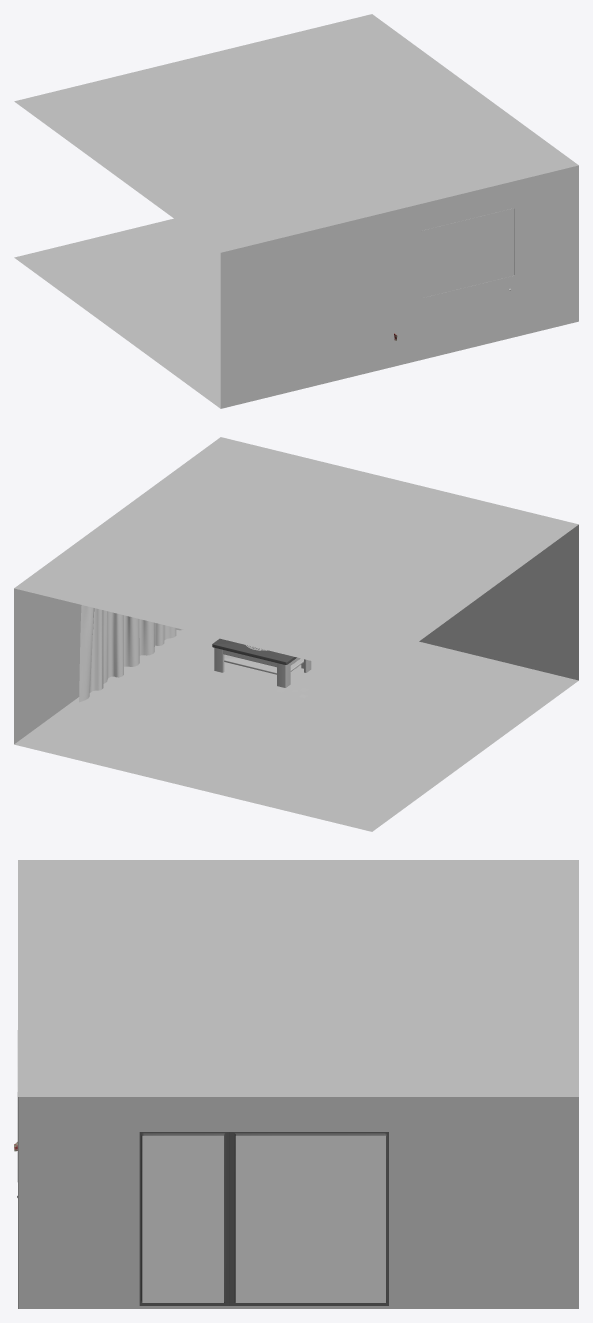
Rendered from charles lechair.fbx.
3 renders of one model, top to bottom at view 1: azimuth 30°, elevation 25°; view 2: azimuth 150°, elevation 25°; view 3: azimuth 270°, elevation 25°, orthographic. The views are drawn at different scales.
Visible parts, largest first — view 1: celling, walls, floor; view 2: celling, floor, walls, Grid, Plane.013, Cube.004; view 3: celling, walls, Plane.009, Plane.008.
Part boxes in pixels (bbox=[...]): celling: bbox=[14, 14, 578, 252]; walls: bbox=[220, 165, 578, 408]; floor: bbox=[14, 218, 220, 408]; celling: bbox=[14, 437, 578, 675]; floor: bbox=[14, 630, 578, 831]; walls: bbox=[14, 524, 578, 744]; Grid: bbox=[79, 605, 183, 702]; Plane.013: bbox=[185, 648, 343, 698]; Cube.004: bbox=[212, 638, 311, 687]; celling: bbox=[18, 860, 578, 1096]; walls: bbox=[18, 1097, 578, 1308]; Plane.009: bbox=[142, 1135, 385, 1302]; Plane.008: bbox=[139, 1132, 388, 1305].
Bounding box in the file's own units: 600 × 250 × 604.
